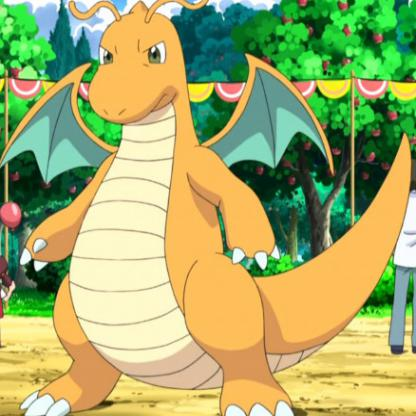Dragonite: (1, 6, 416, 416)
